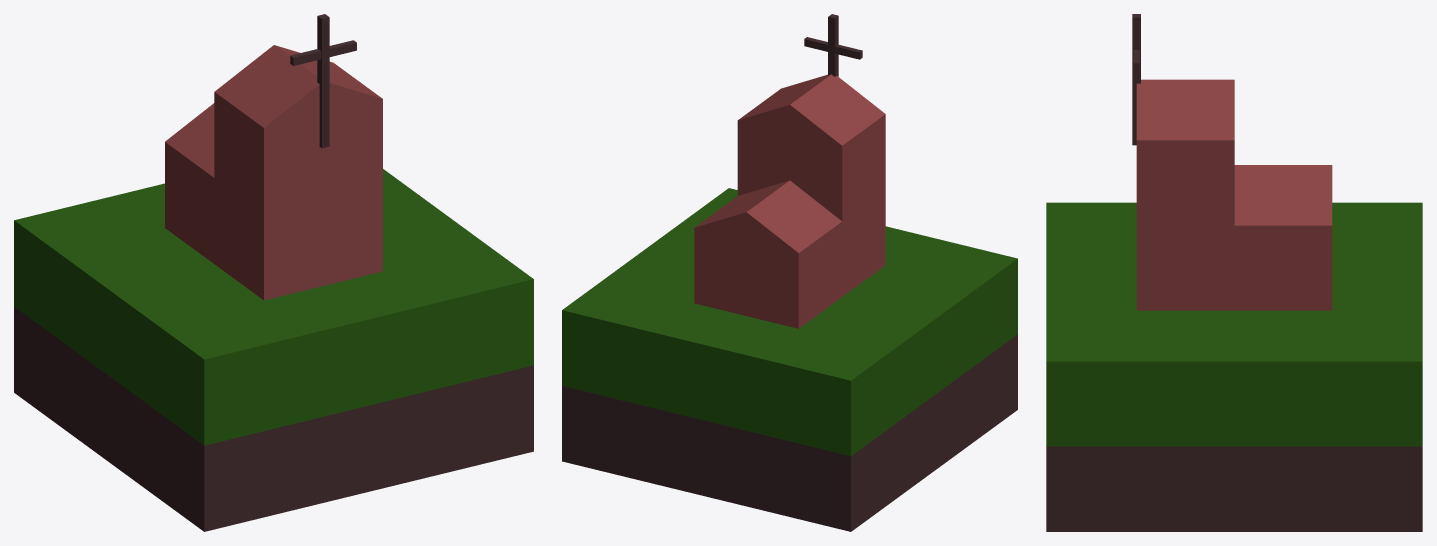
Rendered from Church.glb.
3 renders of one model, left to right at view 1: azimuth 30°, elevation 25°; view 2: azimuth 150°, elevation 25°; view 3: azimuth 270°, elevation 25°, orthographic. The views are drawn at different scales.
Visible parts, largest first — view 1: Church; view 2: Church; view 3: Church.
Part boxes in pixels (<box>): Church: <box>14,14,533,531</box>; Church: <box>562,14,1017,531</box>; Church: <box>1046,14,1422,531</box>.
Size of the model in its own units: 2 by 2.56 by 2.
